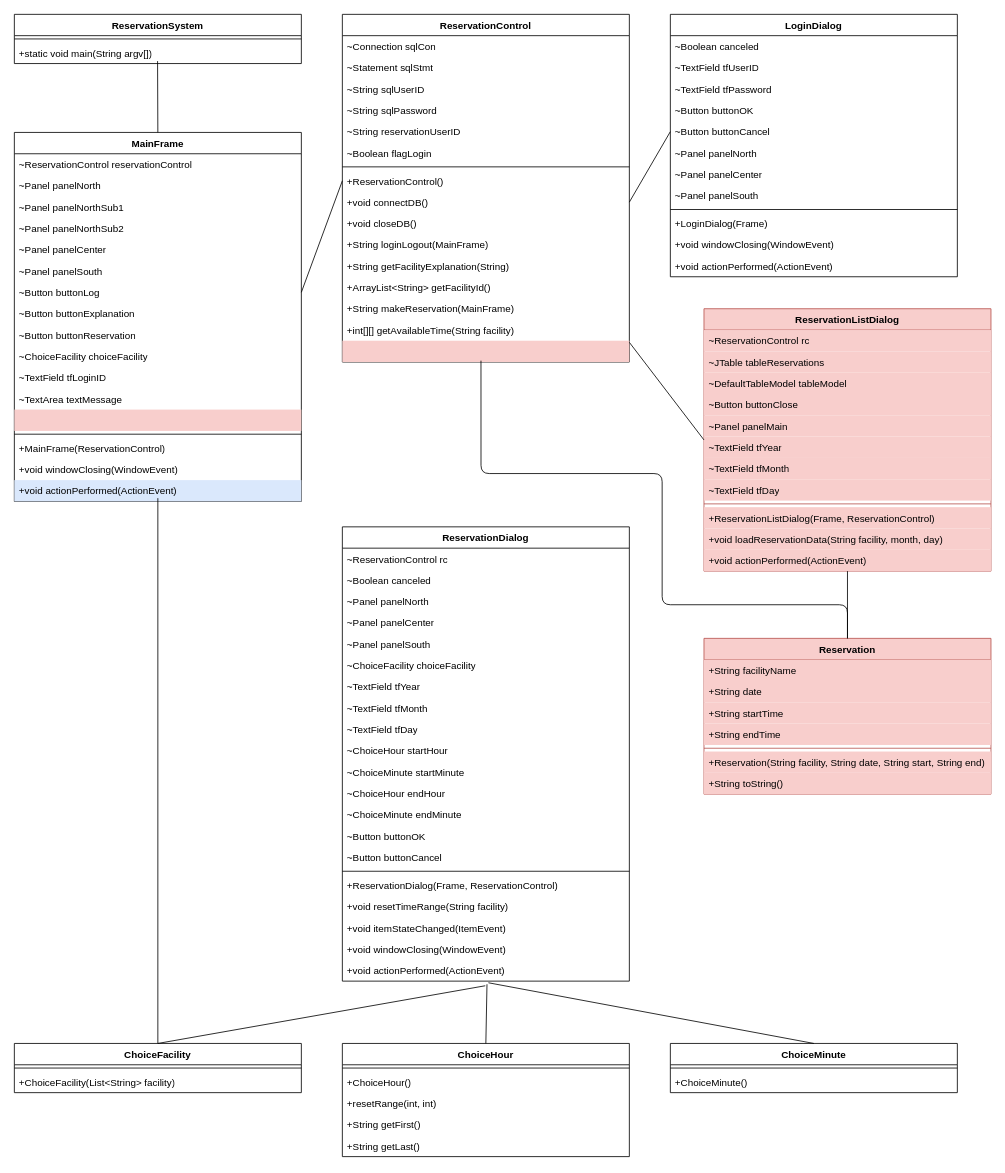
Some shapes in this 1005 by 1173 pixel diagram are drawn without their labels. The centre of each missing label's shape, as x and y in pixels:
"+List<Reservation> getReservations()" belongs at pixel 485 351.
"~Button buttonViewReservation" belongs at pixel 157 419.
